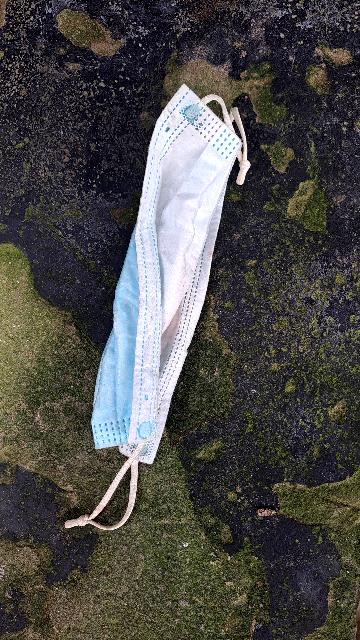mask: (68, 65, 263, 567)
